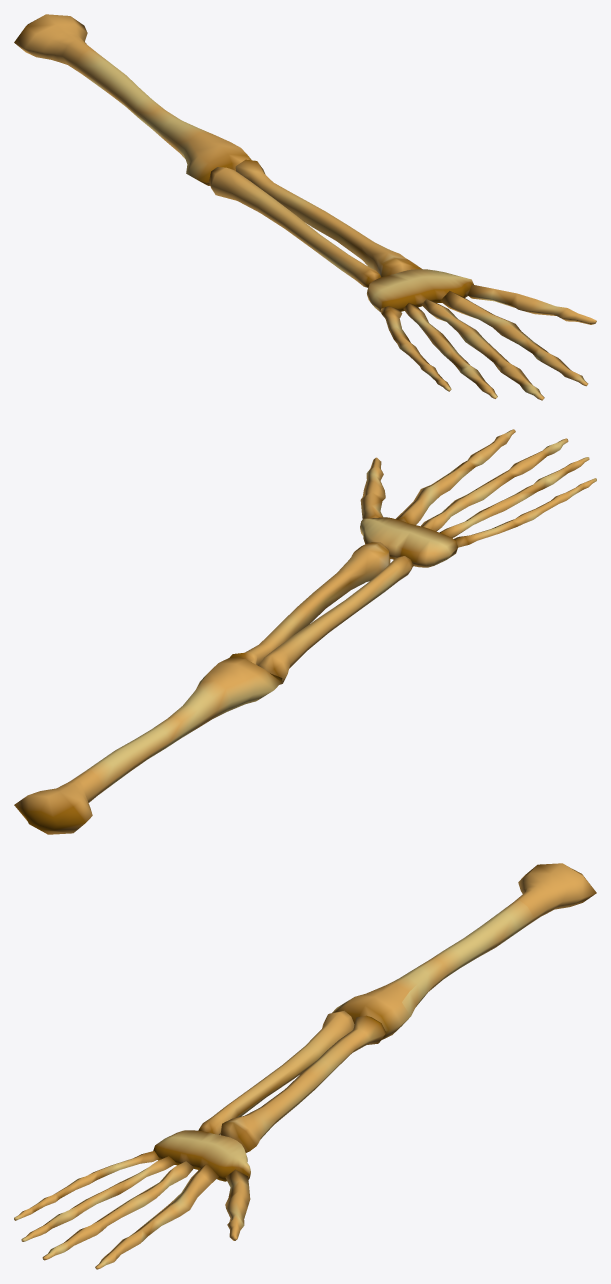
The model's file is SkeletonArm.fbx.
3 renders of one model, top to bottom at view 1: azimuth 30°, elevation 25°; view 2: azimuth 150°, elevation 25°; view 3: azimuth 330°, elevation 25°, orthographic. The views are drawn at different scales.
Parts seen in each view (by area): view 1: SkeletonArm; view 2: SkeletonArm; view 3: SkeletonArm.
Part boxes in pixels (box(x1,y1,x2,y2)): SkeletonArm: box(14, 14, 596, 400); SkeletonArm: box(14, 429, 596, 834); SkeletonArm: box(14, 863, 596, 1269).
Bounding box in the file's own units: 28.05 × 5.31 × 134.
